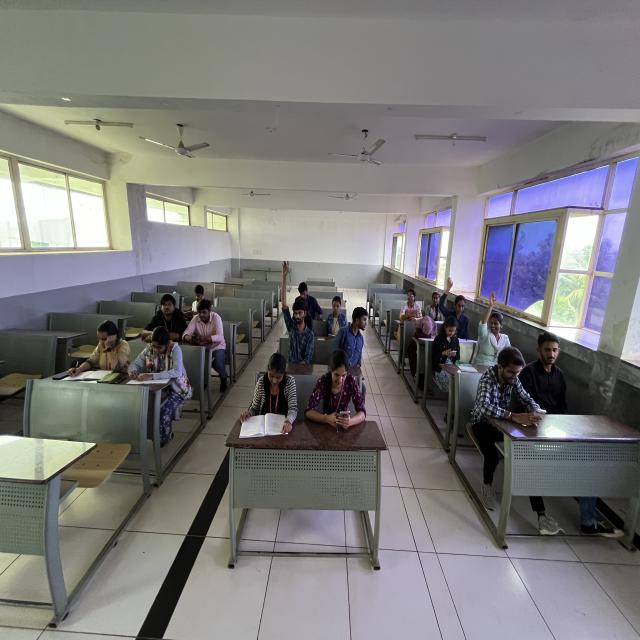Hand Rising: (273, 250, 317, 372), (477, 284, 512, 360), (438, 273, 474, 327)
Reading: (232, 348, 302, 443), (322, 294, 349, 340)
Sleeping: (410, 312, 438, 357)
Using Phone: (469, 342, 548, 452), (304, 348, 374, 429), (180, 297, 228, 356), (430, 313, 466, 384)
Writing: (129, 322, 190, 401), (67, 316, 138, 381)
